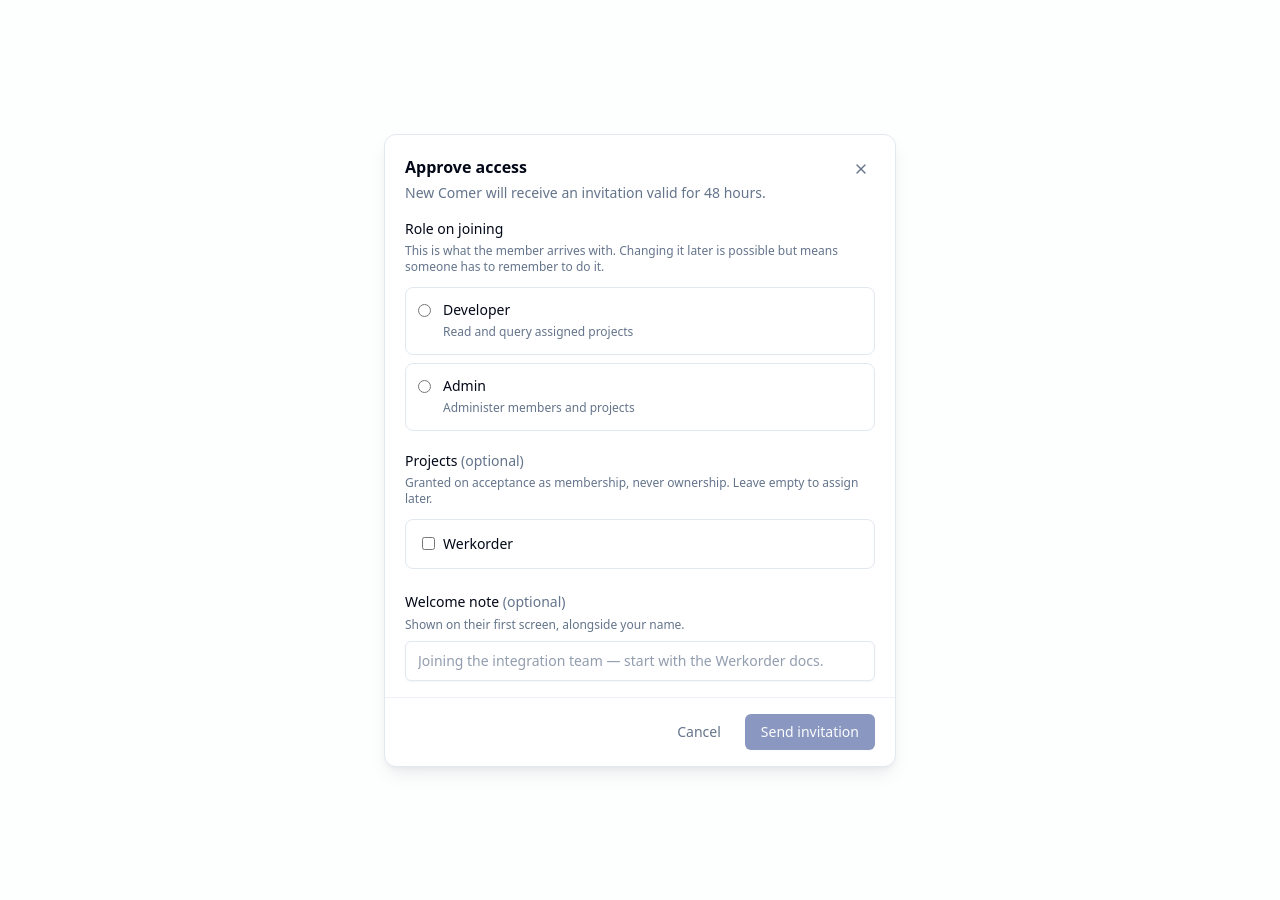
ApproveAccessDialog › blocks submission until a role is chosen
Check: the button "Send invitation" is disabled, box [745,714,875,750]
Click the text "developer".
click(477, 309)  # box [443,300,510,318]
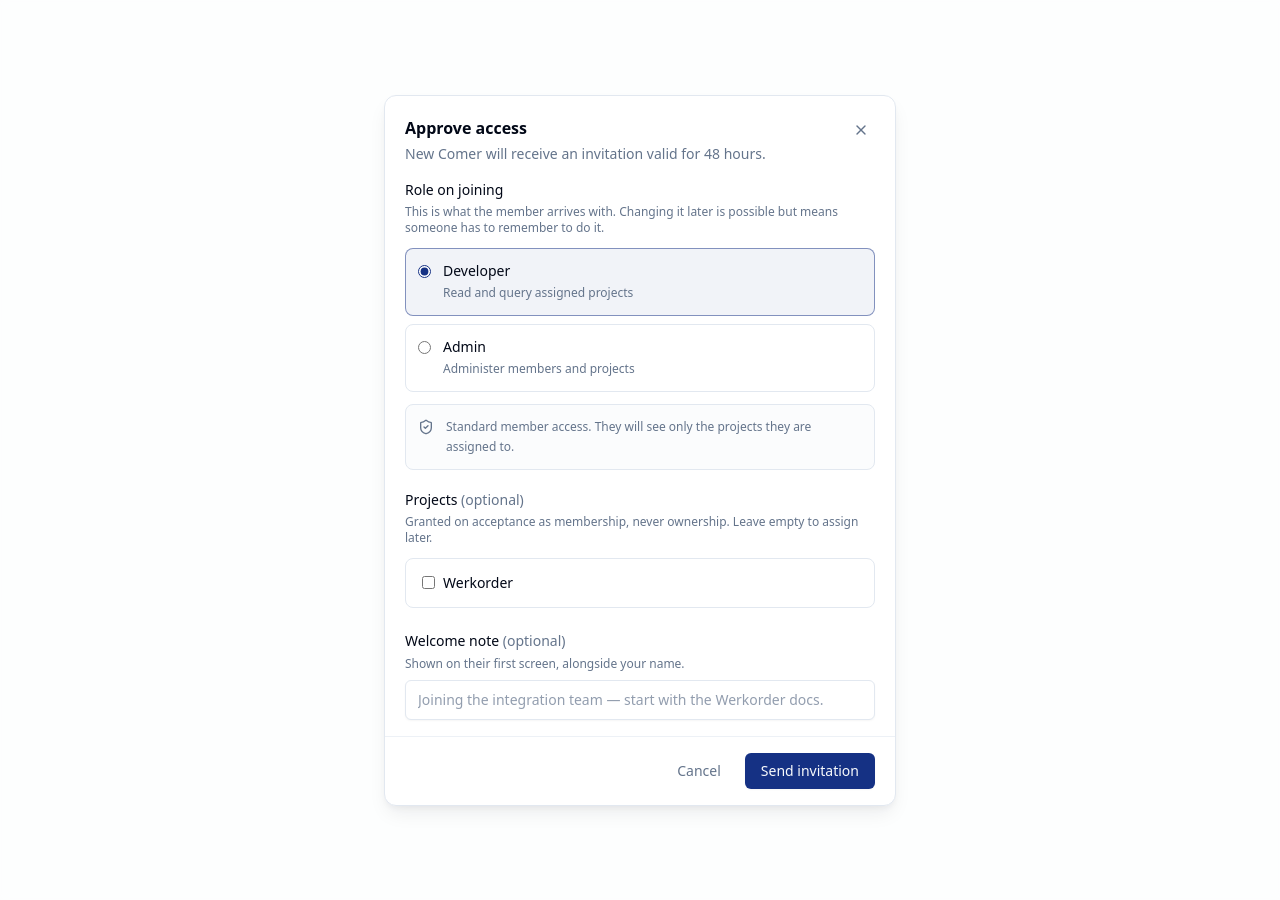
Check: the button "Send invitation" is enabled, box [745,752,875,788]
